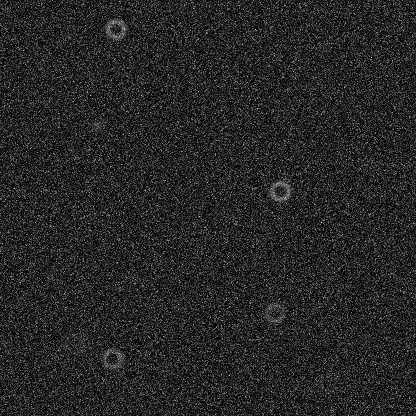Ring: (268, 178, 292, 202), (103, 17, 127, 41), (100, 346, 124, 370), (262, 300, 286, 324), (62, 331, 86, 355), (315, 370, 339, 394)
Spot: (90, 117, 106, 133)
